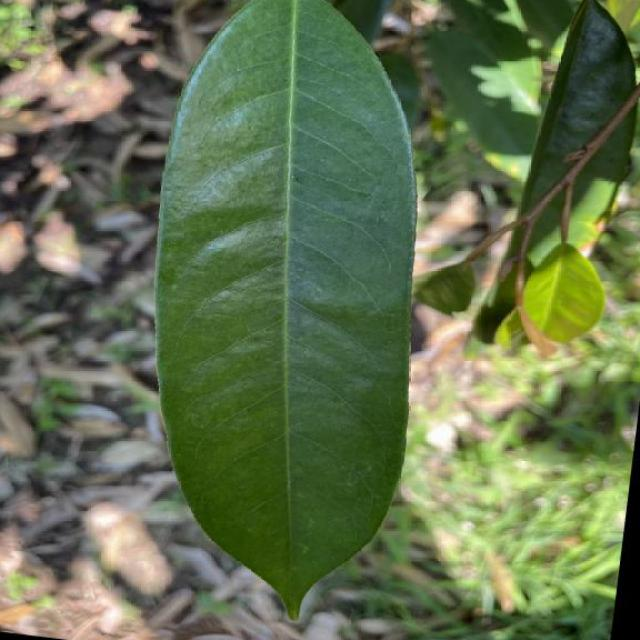No Disease: (102, 0, 471, 638)
